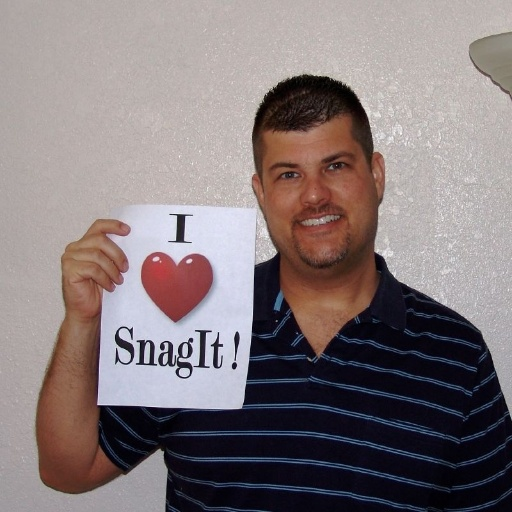hand: (19, 229, 131, 480)
